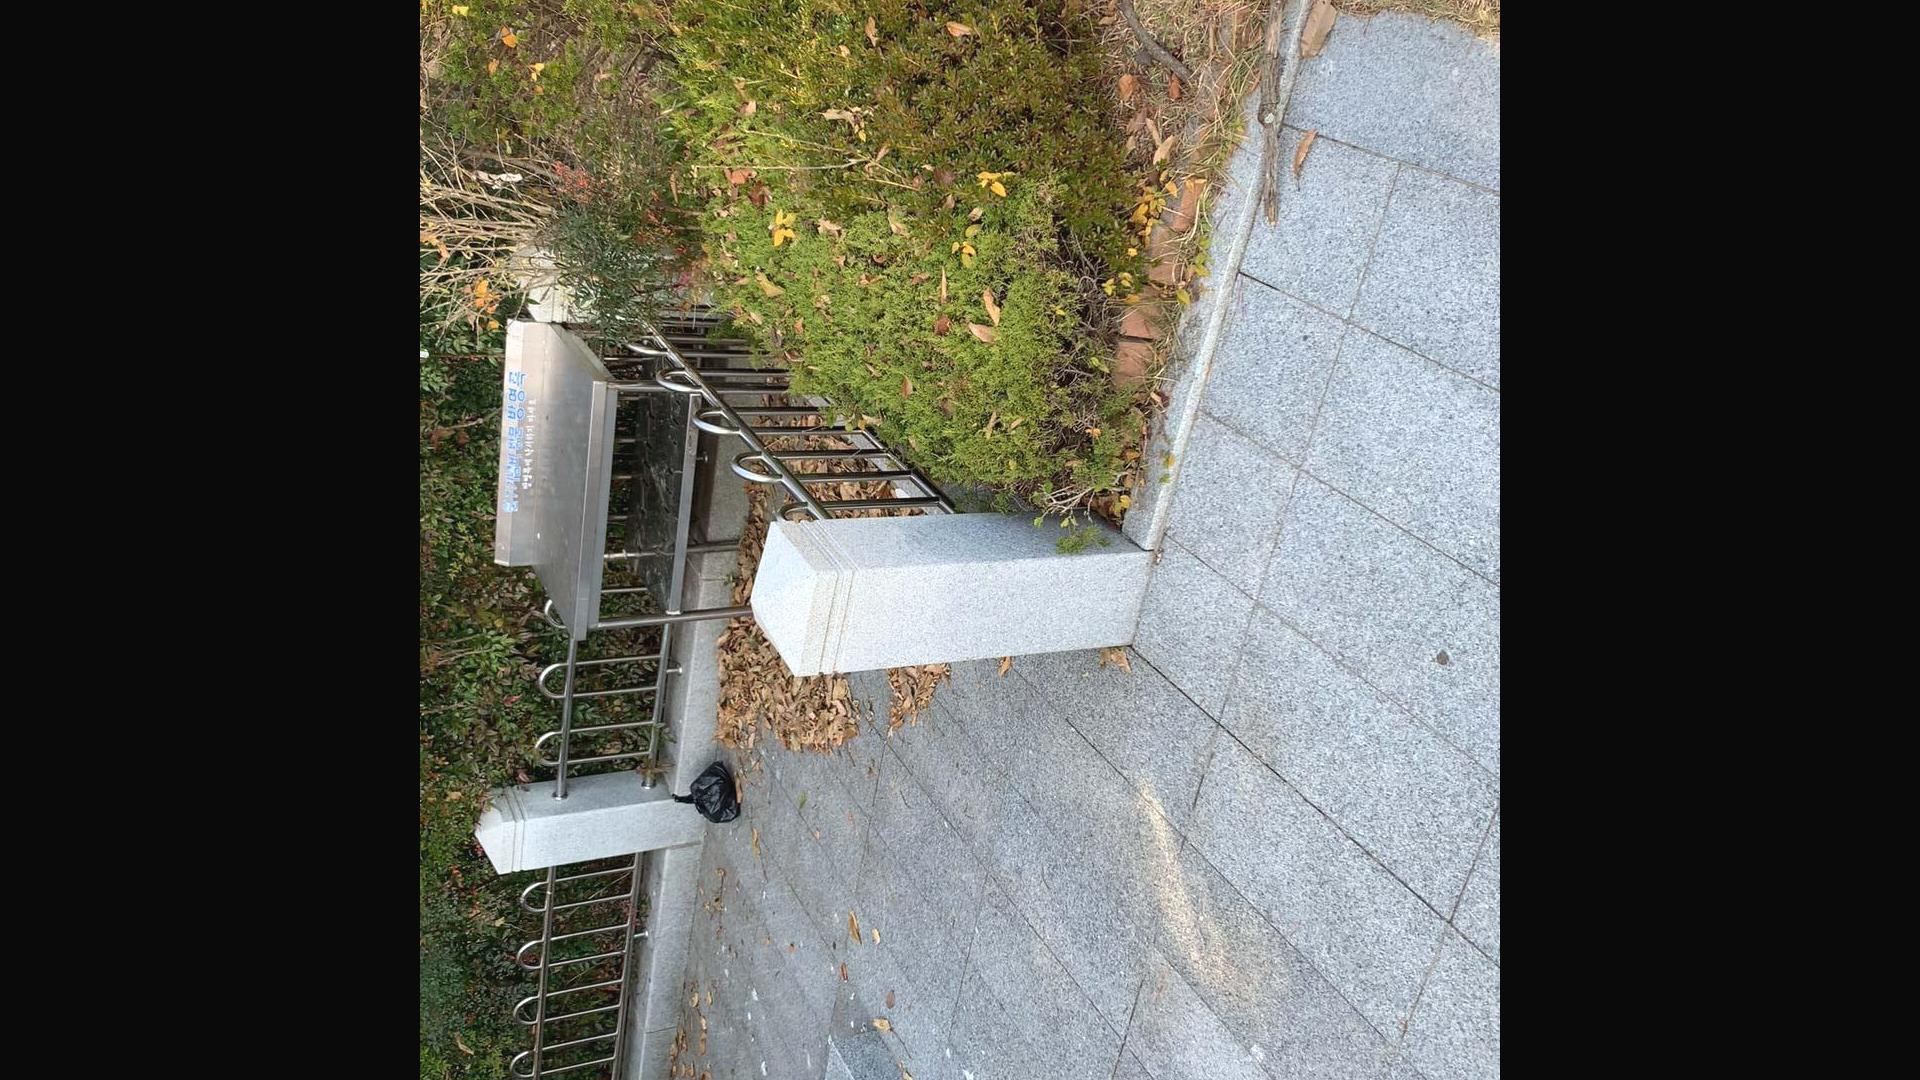black_bag: (669, 753, 740, 824)
